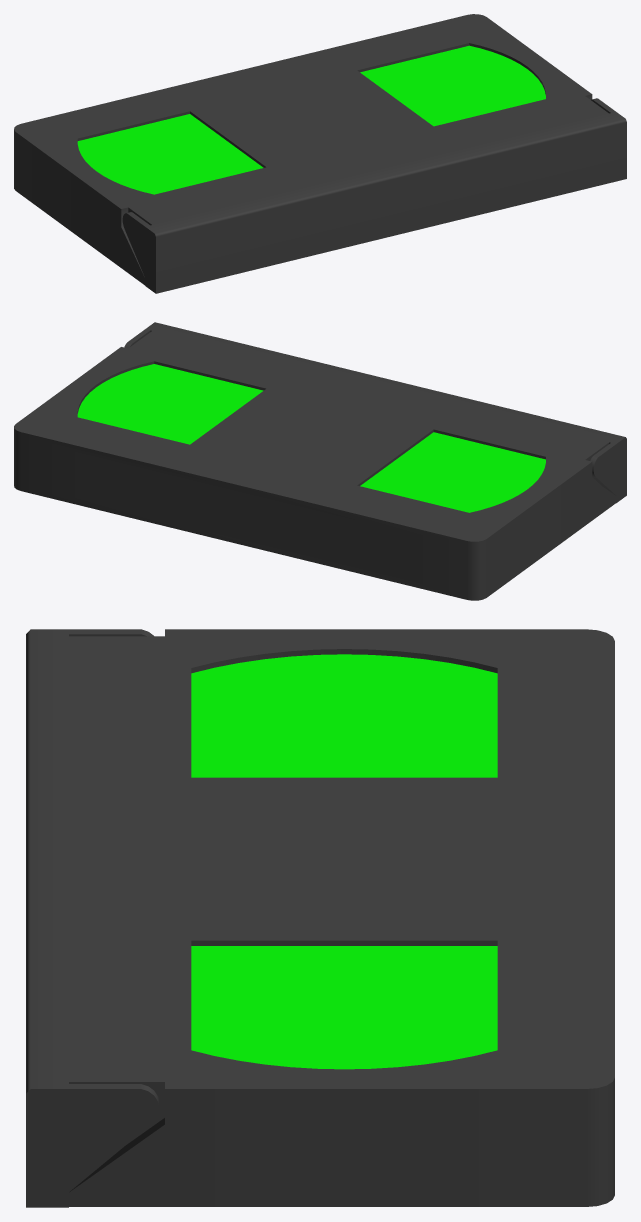
File: cassette2.fbx
3 views of the same model, one above another, from view 1: azimuth 30°, elevation 25°; view 2: azimuth 150°, elevation 25°; view 3: azimuth 270°, elevation 25° (orthographic). The views are drawn at different scales.
Visible parts, largest first — view 1: video_cassete_B; view 2: video_cassete_B; view 3: video_cassete_B.
Boxes of the visible parts, x1=… form: video_cassete_B: x1=14, y1=14, x2=626, y2=293; video_cassete_B: x1=14, y1=322, x2=626, y2=600; video_cassete_B: x1=26, y1=629, x2=614, y2=1207.
Size of the model in its own units: 23.08 by 2.78 by 12.5.
